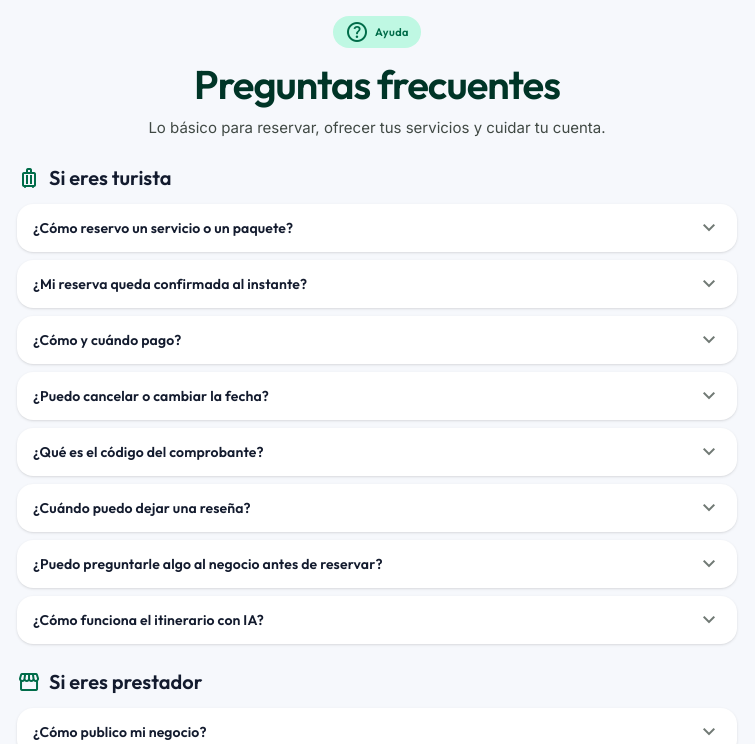
Ayuda › usa las cifras del servidor, no números escritos a mano
Click the heading "¿Puedo cancelar o cambiar la fecha?" at (151, 396), box [33, 382, 721, 410]
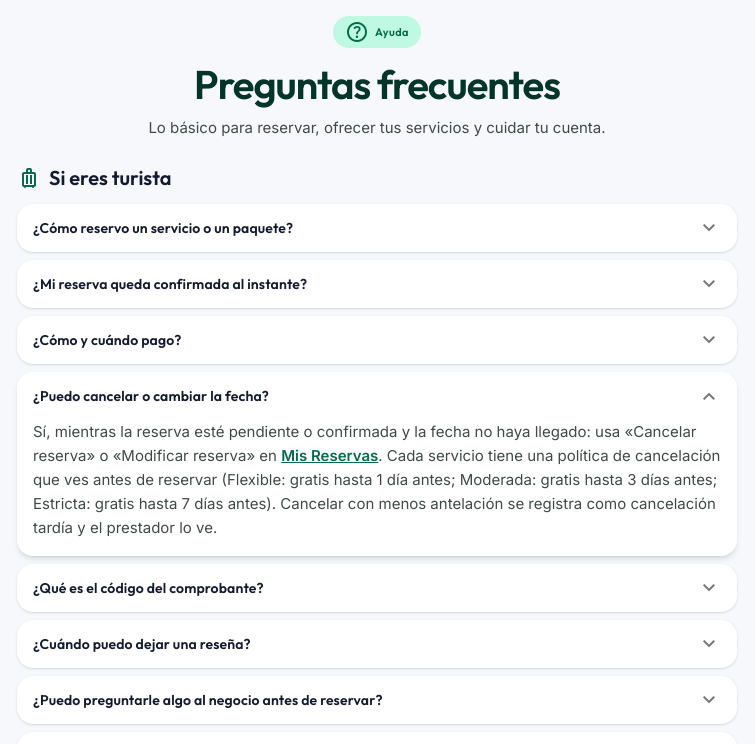
Expected: the text "Estricta: gratis hasta 7 días antes" is shown, [33, 470, 717, 513]
